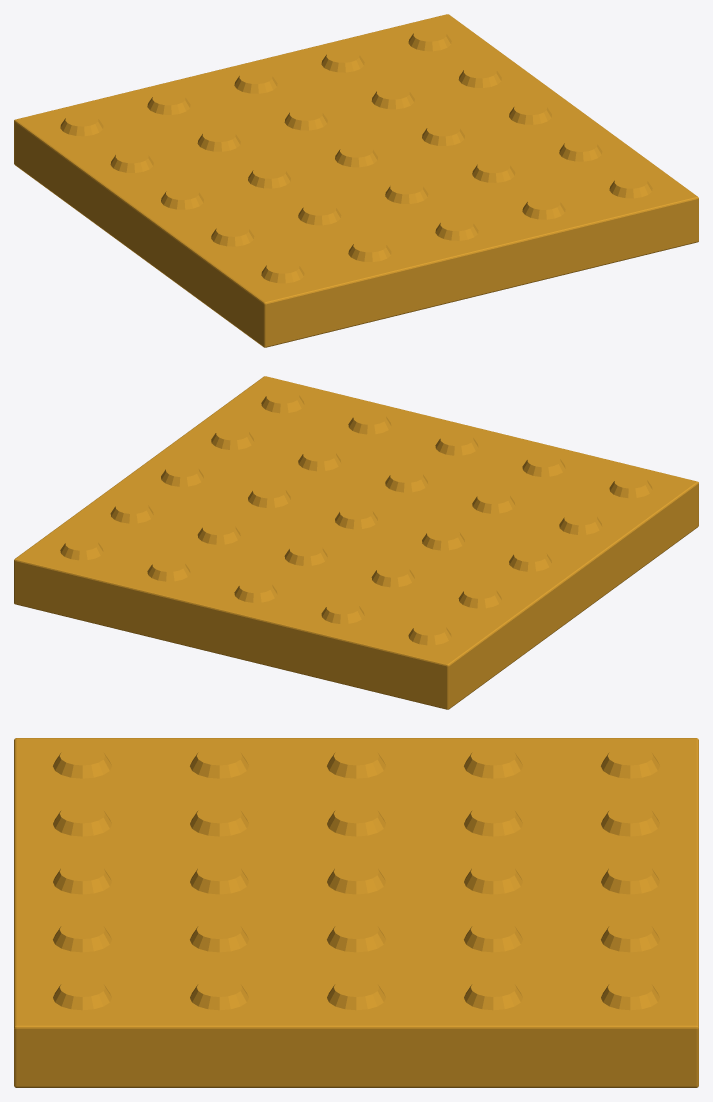
3 views of the same model, one above another, from view 1: azimuth 30°, elevation 25°; view 2: azimuth 150°, elevation 25°; view 3: azimuth 270°, elevation 25° (orthographic). The views are drawn at different scales.
Visible parts, largest first — view 1: TILE_Base, WARNING_Stud.012, WARNING_Stud.020, WARNING_Stud.006, WARNING_Stud.024, WARNING_Stud, WARNING_Stud.014, WARNING_Stud.015, WARNING_Stud.018, WARNING_Stud.021, WARNING_Stud.001, WARNING_Stud.004 (+14 smaller); view 2: TILE_Base, WARNING_Stud.012, WARNING_Stud.024, WARNING_Stud.008, WARNING_Stud.020, WARNING_Stud.004, WARNING_Stud.010, WARNING_Stud.016, WARNING_Stud.019, WARNING_Stud.023, WARNING_Stud, WARNING_Stud.003 (+14 smaller); view 3: TILE_Base, WARNING_Stud, WARNING_Stud.001, WARNING_Stud.002, WARNING_Stud.003, WARNING_Stud.004, WARNING_Stud.005, WARNING_Stud.006, WARNING_Stud.007, WARNING_Stud.008, WARNING_Stud.009, WARNING_Stud.010 (+14 smaller).
Boxes of the visible parts, bbox=[...] form: TILE_Base: bbox=[14, 14, 698, 347]; WARNING_Stud.012: bbox=[335, 143, 377, 167]; WARNING_Stud.020: bbox=[609, 174, 652, 198]; WARNING_Stud.006: bbox=[298, 201, 341, 225]; WARNING_Stud.024: bbox=[408, 27, 451, 51]; WARNING_Stud: bbox=[261, 259, 304, 283]; WARNING_Stud.014: bbox=[234, 70, 277, 93]; WARNING_Stud.015: bbox=[522, 196, 565, 219]; WARNING_Stud.018: bbox=[371, 85, 414, 109]; WARNING_Stud.021: bbox=[559, 138, 602, 161]; WARNING_Stud.001: bbox=[211, 223, 254, 246]; WARNING_Stud.004: bbox=[60, 112, 103, 136]; TILE_Base: bbox=[14, 376, 698, 709]; WARNING_Stud.012: bbox=[335, 505, 377, 529]; WARNING_Stud.024: bbox=[60, 536, 103, 560]; WARNING_Stud.008: bbox=[371, 563, 414, 587]; WARNING_Stud.020: bbox=[261, 389, 304, 413]; WARNING_Stud.004: bbox=[408, 621, 451, 645]; WARNING_Stud.010: bbox=[435, 432, 478, 455]; WARNING_Stud.016: bbox=[298, 447, 341, 471]; WARNING_Stud.019: bbox=[147, 558, 190, 581]; WARNING_Stud.023: bbox=[110, 500, 153, 523]; WARNING_Stud: bbox=[609, 474, 652, 498]; WARNING_Stud.003: bbox=[458, 585, 501, 608]; TILE_Base: bbox=[14, 738, 698, 1087]; WARNING_Stud: bbox=[53, 746, 111, 778]; WARNING_Stud.001: bbox=[190, 746, 248, 778]; WARNING_Stud.002: bbox=[327, 746, 385, 778]; WARNING_Stud.003: bbox=[464, 746, 522, 778]; WARNING_Stud.004: bbox=[601, 746, 659, 778]; WARNING_Stud.005: bbox=[53, 804, 111, 836]; WARNING_Stud.006: bbox=[190, 804, 248, 836]; WARNING_Stud.007: bbox=[327, 804, 385, 836]; WARNING_Stud.008: bbox=[464, 804, 522, 836]; WARNING_Stud.009: bbox=[601, 804, 659, 836]; WARNING_Stud.010: bbox=[53, 862, 111, 894].
Bounding box in the file's own units: 0.3 × 0.035 × 0.3.
